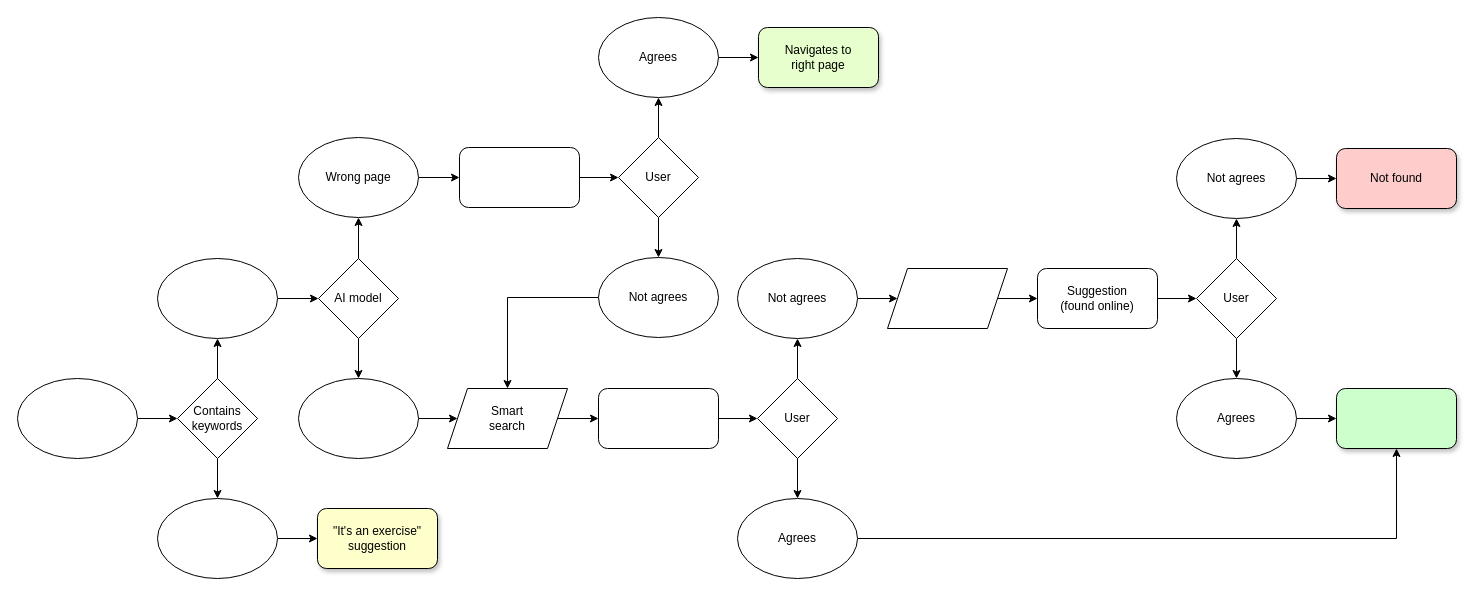
Image size: 1480x596. Some labels were removed from this diagram. Each missing label, with the centre of its shape:
Enriched search: pixel 947 298
Found: pixel 1397 420
No reason to suspect: pixel 217 298
Not found in DB: pixel 77 418
Right page: pixel 358 418
Seems like a chemistry problem or exercise: pixel 217 538
Suggestion (found by similarity): pixel 658 418
Suggestion (other menu): pixel 519 177
